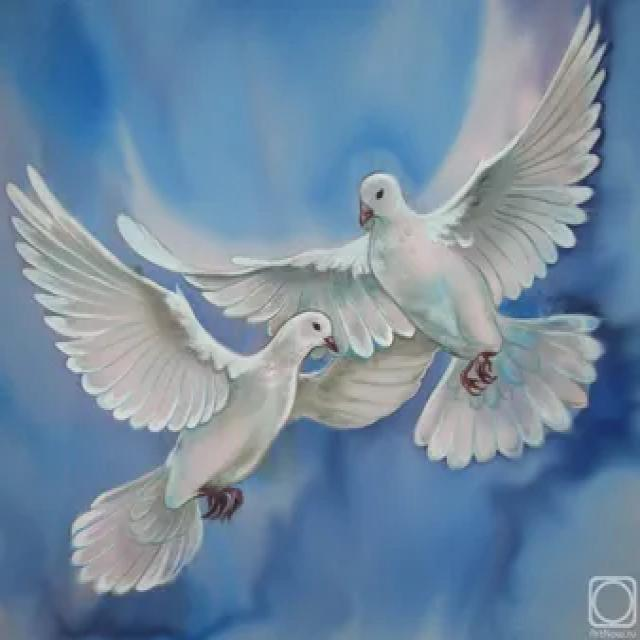pigeon: (274, 0, 640, 460)
